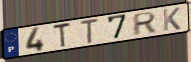4: (24, 26, 47, 53)
7: (106, 13, 128, 41)
K: (162, 6, 183, 32)
R: (132, 10, 158, 37)
T: (52, 21, 73, 50), (80, 17, 101, 45)
